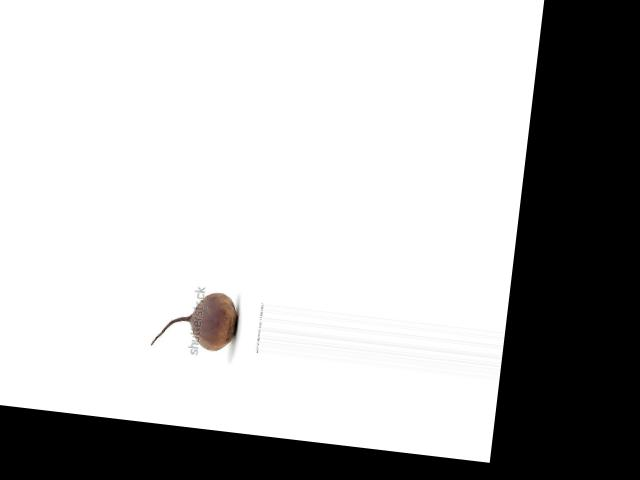beet: (150, 284, 241, 354)
